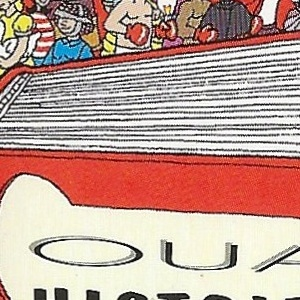Odlaw: (134, 124, 166, 176)
